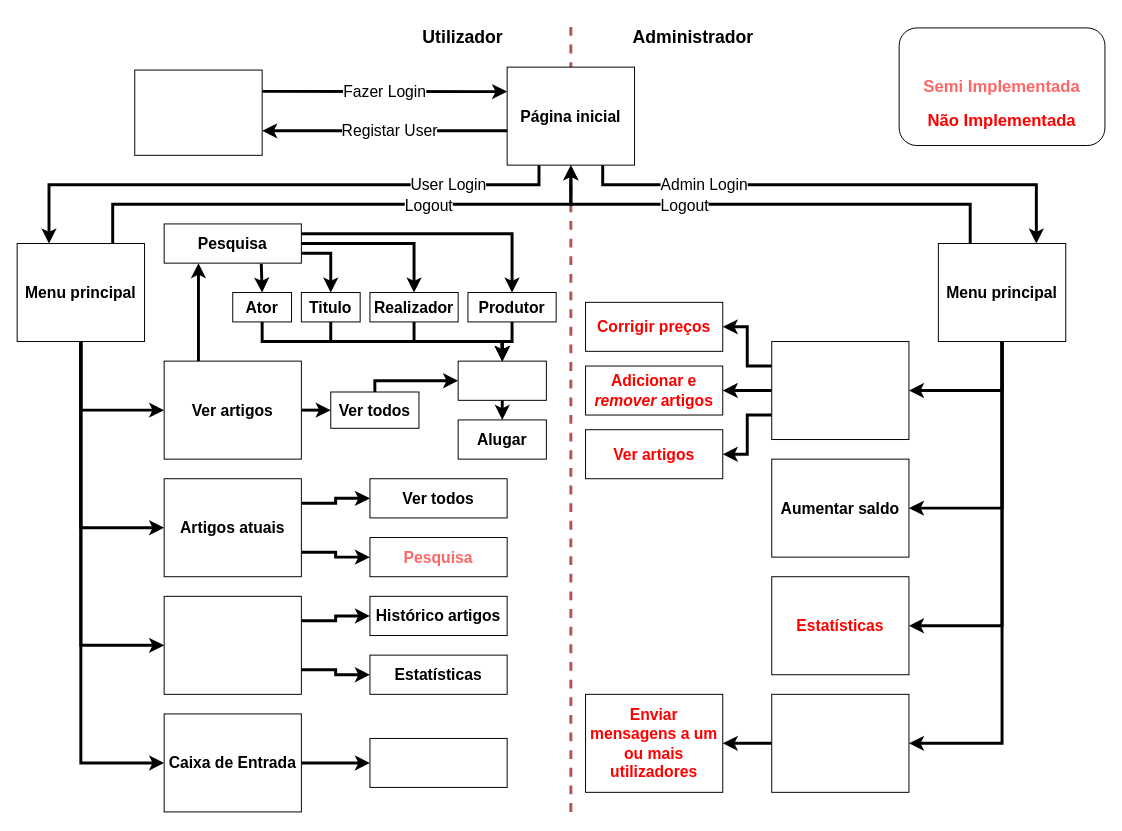
Some shapes in this 1122 by 831 pixel diagram are drawn without their labels. Each missing label, with the centre of its shape:
Detalhes: (x=501, y=380)
Gestão de artigos: (x=840, y=390)
Histórico Artigos Estatísticas: (x=232, y=644)
Ler mensagem: (x=438, y=762)
Mensagens: (x=840, y=742)
Registo: (x=198, y=112)
